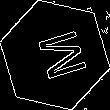M_W: (25, 26, 85, 84)
